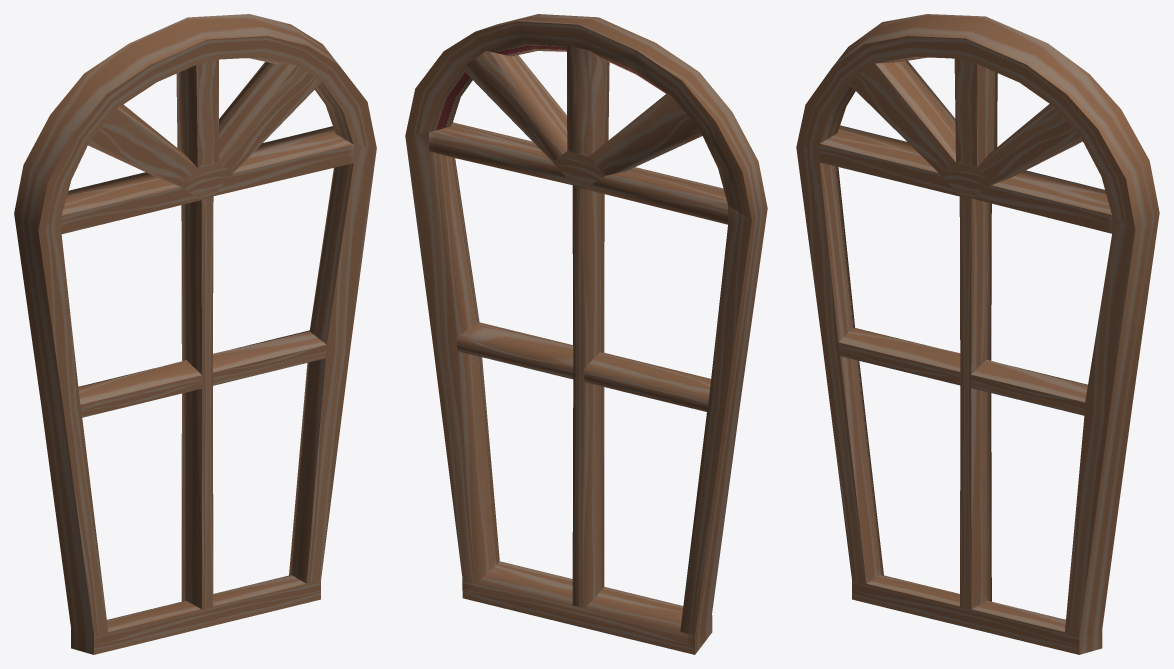
File: Window.obj
3 views of the same model, side by side, from view 1: azimuth 30°, elevation 25°; view 2: azimuth 150°, elevation 25°; view 3: azimuth 330°, elevation 25° (orthographic).
Bounding box in the file's own units: 1.47 × 2.44 × 0.1468.
1 material, 1 textured.
